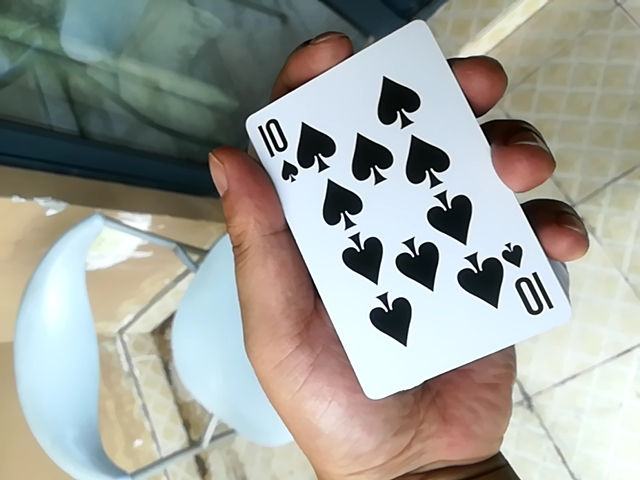ht 10: (227, 21, 570, 396)
